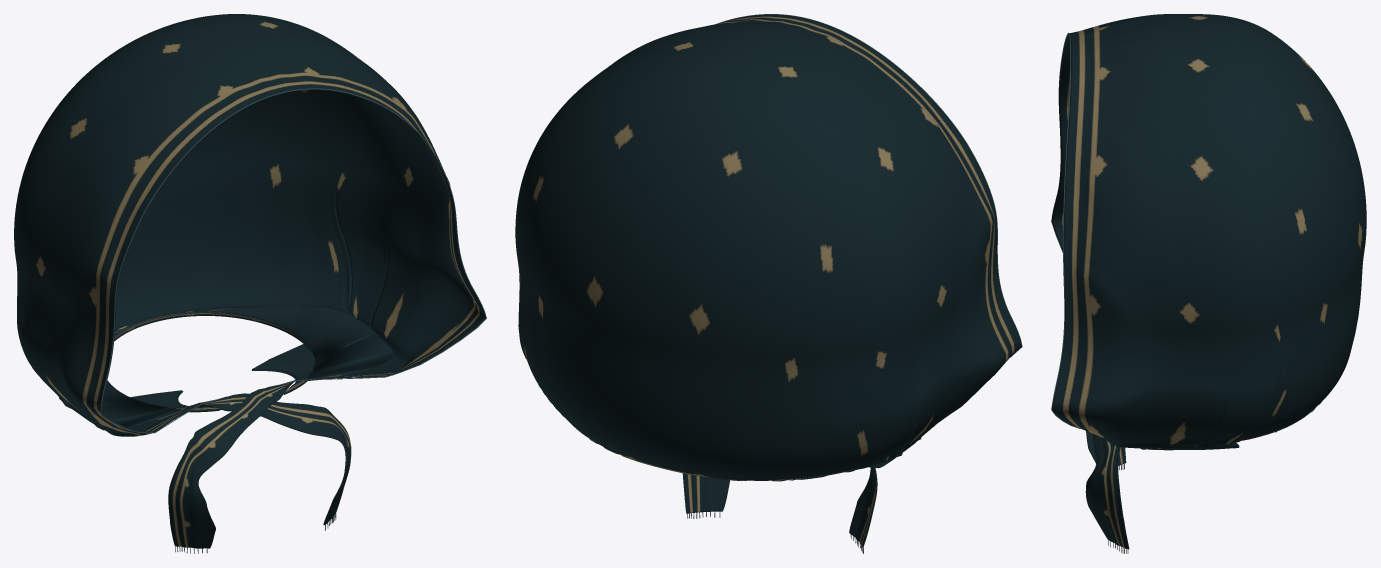
File: Feminine-curls-tshirt-pashmina250-headgear.glb
3 renders of one model, left to right at view 1: azimuth 30°, elevation 25°; view 2: azimuth 150°, elevation 25°; view 3: azimuth 270°, elevation 25°, orthographic. The views are drawn at different scales.
Parts seen in each view (by area): view 1: 226 headgear / Headwear / continuous woven pashmina239, 226 headgear / Headwear / face edge239; view 2: 226 headgear / Headwear / continuous woven pashmina239, 226 headgear / Headwear / face edge239; view 3: 226 headgear / Headwear / continuous woven pashmina239, 226 headgear / Headwear / face edge239.
Boxes of the visible parts, left/top/right/bottom form: 226 headgear / Headwear / continuous woven pashmina239: left=14, top=14, right=485, bottom=548; 226 headgear / Headwear / face edge239: left=100, top=88, right=486, bottom=433; 226 headgear / Headwear / continuous woven pashmina239: left=515, top=14, right=1021, bottom=547; 226 headgear / Headwear / face edge239: left=717, top=14, right=1022, bottom=357; 226 headgear / Headwear / continuous woven pashmina239: left=1051, top=14, right=1366, bottom=549; 226 headgear / Headwear / face edge239: left=1051, top=32, right=1080, bottom=428.
Bounding box in the file's own units: 1.21 × 1.4 × 0.8341.
3 materials, 1 textured.
